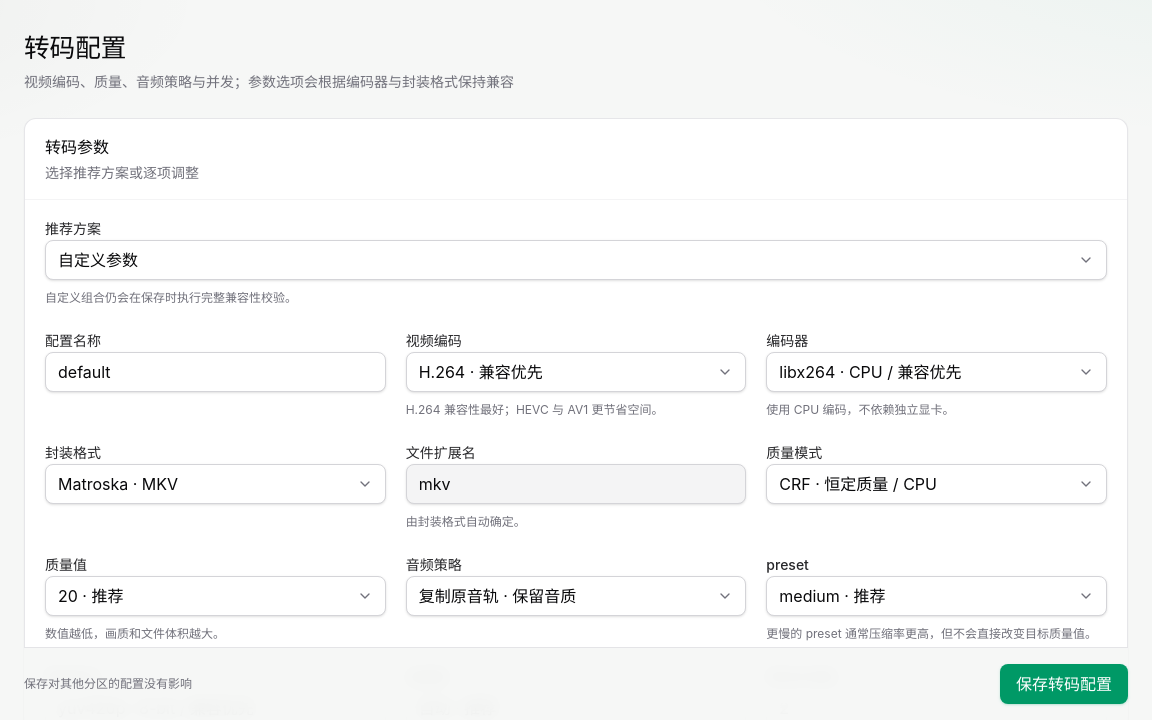
Test: SettingsTranscodePage › keeps codec, container, audio and quality selections compatible
Select "AV1 · 新设备 / 高压缩" in the dropdown labelled "视频编码" at (434, 340), box left=406, top=332, right=462, bottom=349
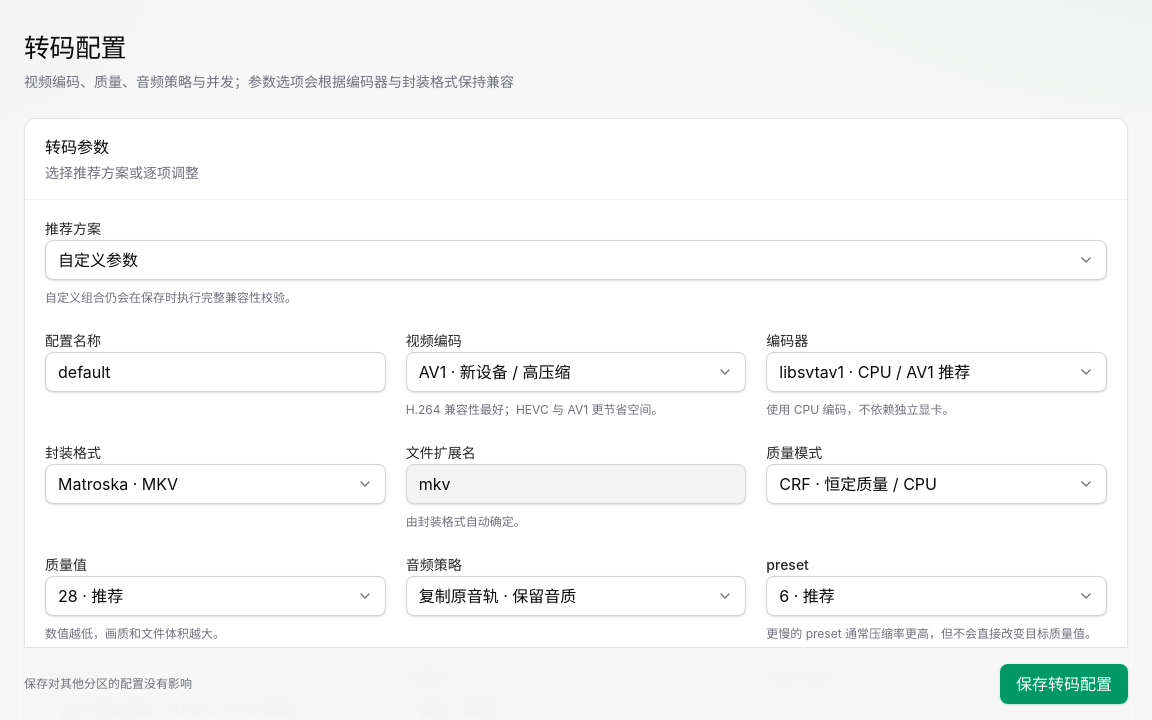
Expected: the label labelled "编码器" holds "libsvtav1", left=766, top=332, right=808, bottom=349
Expected: the label labelled "质量模式" holds "crf", left=766, top=444, right=822, bottom=461
Select "WebM · AV1" in the dropdown labelled "封装格式" at (73, 452), box left=45, top=444, right=101, bottom=461
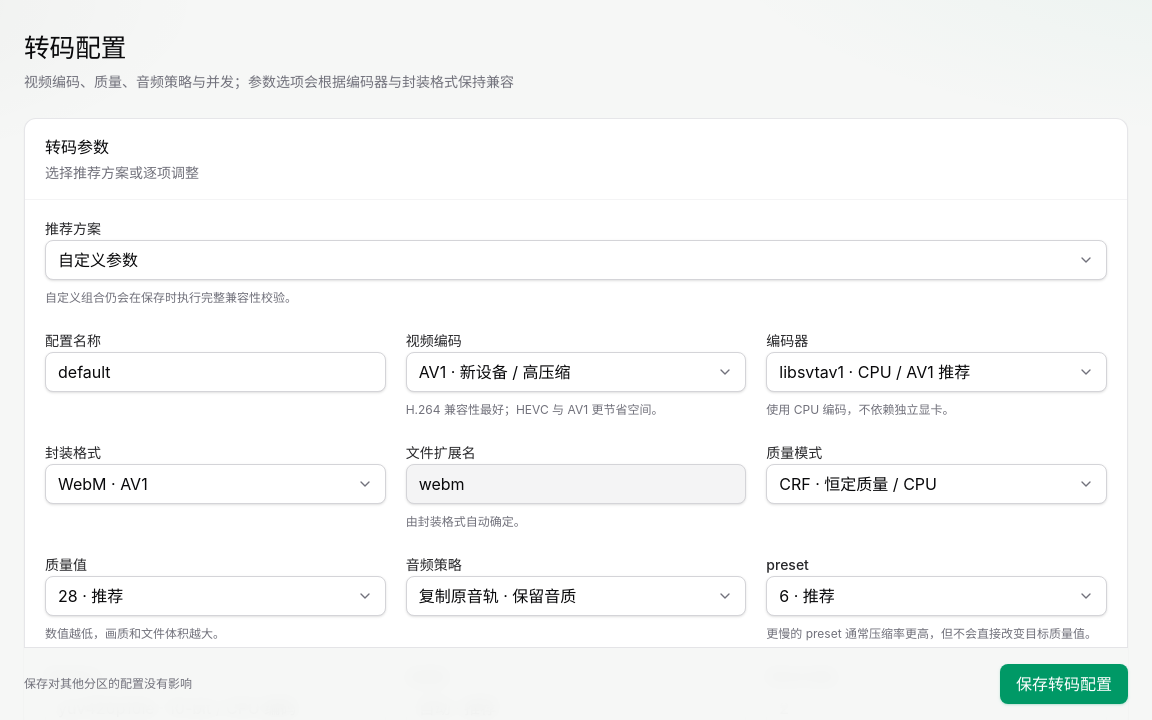
Expected: the field labelled "文件扩展名" holds "webm", left=406, top=464, right=746, bottom=504
Select "统一转码 · 兼容优先" in the dropdown labelled "音频策略" at (434, 564), box left=406, top=556, right=462, bottom=573
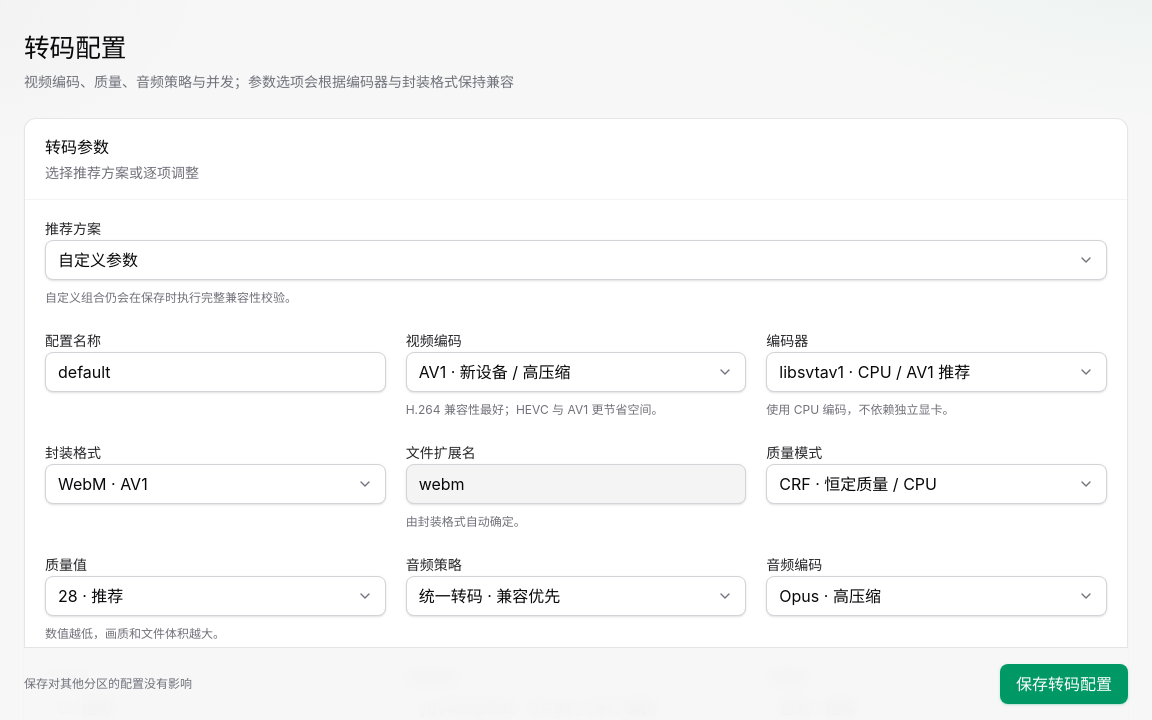
Expected: the label labelled "音频编码" does not show "aac", left=766, top=556, right=822, bottom=573
Expected: the label labelled "音频编码" holds "opus", left=766, top=556, right=822, bottom=573
